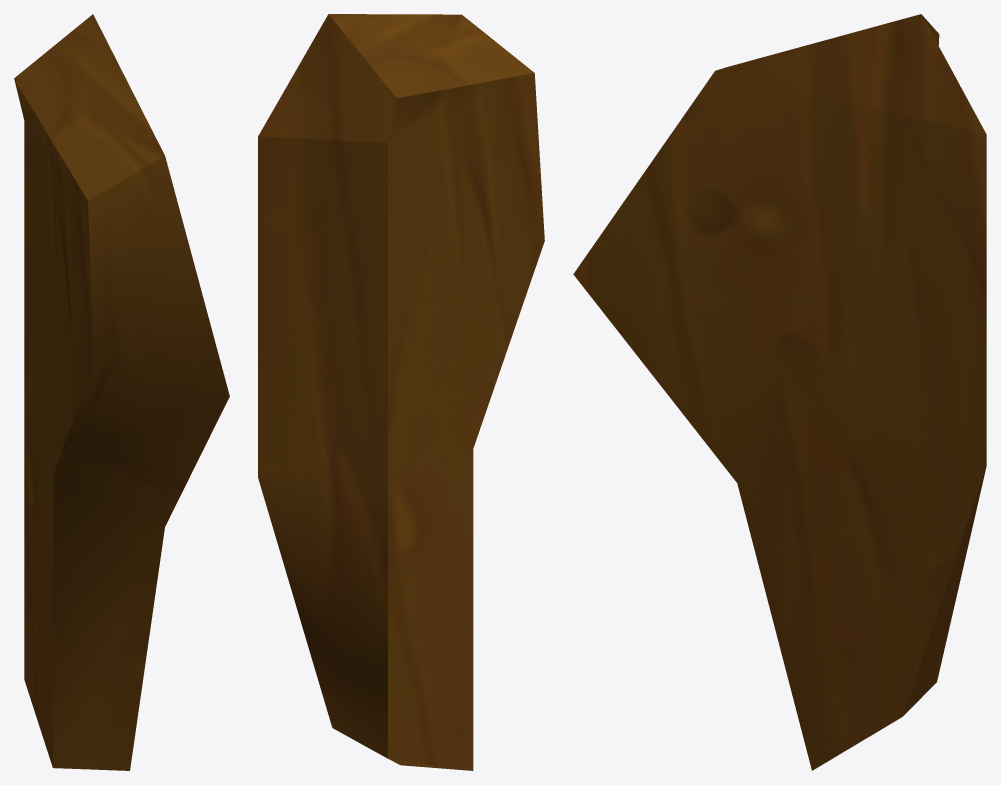
The model's file is p_mesh_hvs_spruce_small_part_01.fbx.
3 renders of one model, left to right at view 1: azimuth 30°, elevation 25°; view 2: azimuth 150°, elevation 25°; view 3: azimuth 270°, elevation 25°, orthographic. The views are drawn at different scales.
Visible parts, largest first — view 1: p_hvs_spruce_small_part_01; view 2: p_hvs_spruce_small_part_01; view 3: p_hvs_spruce_small_part_01.
Boxes of the visible parts, bbox=[...] form: p_hvs_spruce_small_part_01: bbox=[14, 14, 229, 770]; p_hvs_spruce_small_part_01: bbox=[258, 14, 544, 770]; p_hvs_spruce_small_part_01: bbox=[573, 14, 986, 770].
Bounding box in the file's own units: 0.5487 × 2.86 × 1.4.
